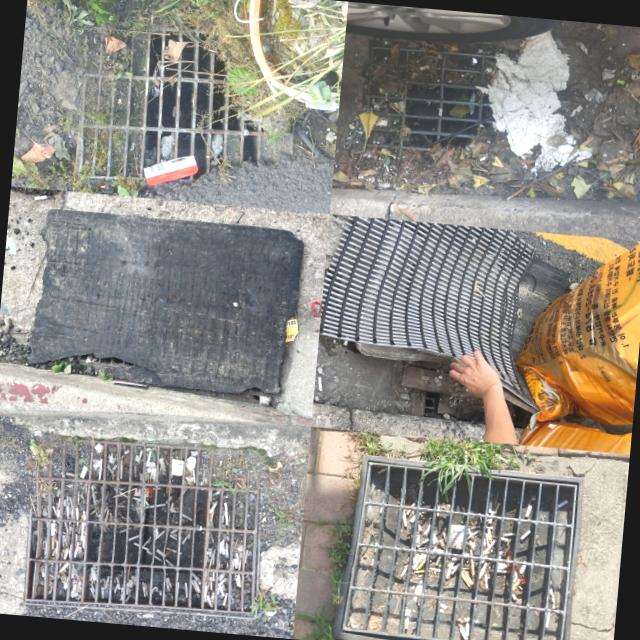drain_area: (141, 72, 228, 178), (402, 83, 491, 141), (177, 46, 222, 73), (199, 115, 242, 143), (242, 121, 260, 161)
drain_full: (345, 463, 577, 640), (26, 439, 261, 612), (80, 27, 300, 194), (363, 48, 542, 160)
